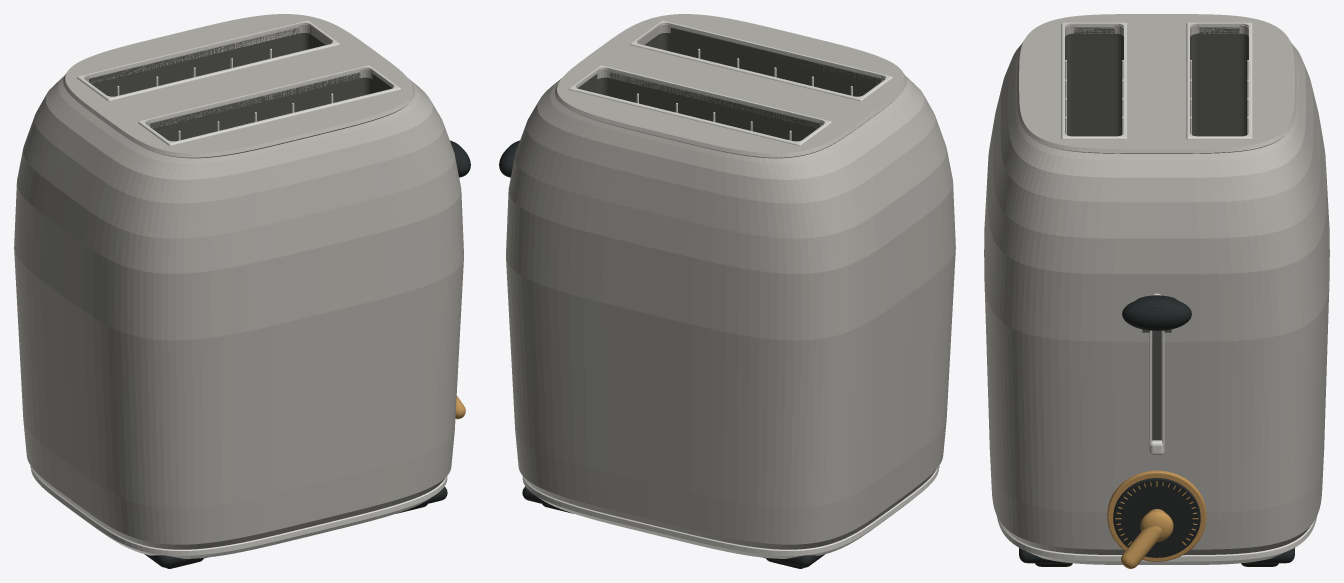
The picture shows the model from 3 angles, left to right: view 1: azimuth 30°, elevation 25°; view 2: azimuth 150°, elevation 25°; view 3: azimuth 270°, elevation 25°; orthographic projection. The views are drawn at different scales.
Visible parts, largest first — view 1: visual_part_000_0_4, visual_part_000_0_1, visual_part_000_0_3, visual_part_000_0_5; view 2: visual_part_000_0_4, visual_part_000_0_1, visual_part_000_0_3, visual_part_000_0_5; view 3: visual_part_000_0_4, visual_part_000_0_1, visual_part_000_0_3, visual_part_000_0_5, visual_part_000_0_0, visual_part_001_0_1, visual_part_002_0_0.
Part boxes in pixels (x1,y1,x2,y2): visual_part_000_0_4: (14, 14, 463, 549); visual_part_000_0_1: (89, 28, 392, 141); visual_part_000_0_3: (31, 20, 447, 558); visual_part_000_0_5: (30, 466, 447, 567); visual_part_000_0_4: (506, 14, 955, 549); visual_part_000_0_1: (577, 27, 880, 141); visual_part_000_0_3: (522, 20, 938, 558); visual_part_000_0_5: (522, 466, 939, 567); visual_part_000_0_4: (984, 14, 1329, 555); visual_part_000_0_1: (1065, 27, 1248, 440); visual_part_000_0_3: (997, 22, 1316, 564); visual_part_000_0_5: (1019, 478, 1294, 563); visual_part_000_0_0: (1107, 470, 1206, 561); visual_part_001_0_1: (1122, 295, 1191, 330); visual_part_002_0_0: (1121, 509, 1173, 568).
Bounding box in the file's own units: 0.258 × 0.254 × 0.188.
